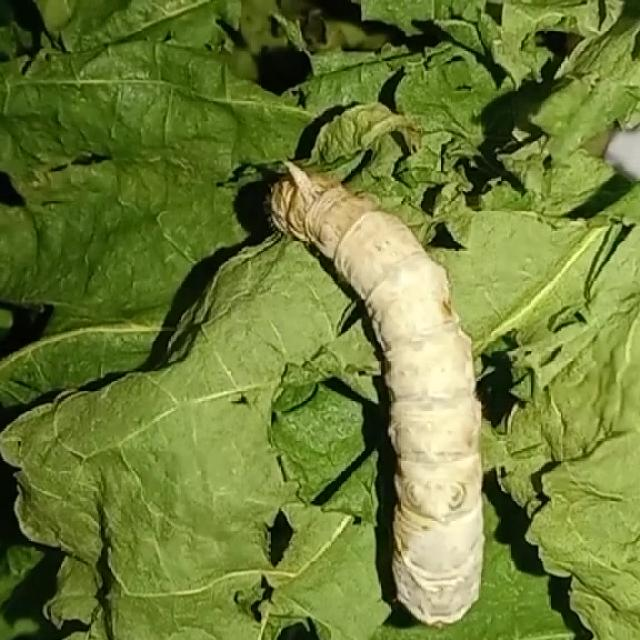Grasserie: (224, 140, 529, 634)
